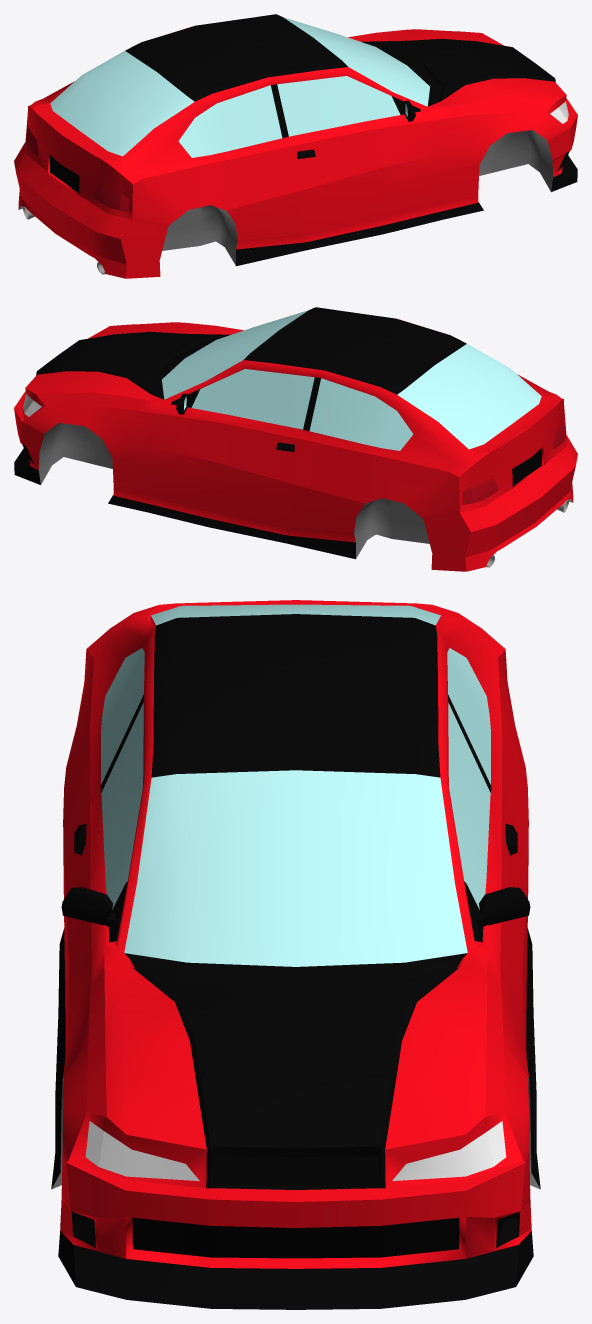
File: S64Compact_Body_2.fbx
The picture shows the model from 3 angles, top to bottom: view 1: azimuth 30°, elevation 25°; view 2: azimuth 150°, elevation 25°; view 3: azimuth 270°, elevation 25°; orthographic projection. The views are drawn at different scales.
Parts seen in each view (by area): view 1: Cube; view 2: Cube; view 3: Cube.
Boxes of the visible parts, left/top/right/bottom form: Cube: left=14, top=14, right=577, bottom=278; Cube: left=14, top=307, right=577, bottom=571; Cube: left=51, top=600, right=540, bottom=1309.
Bounding box in the file's own units: 328 × 104 × 140.
